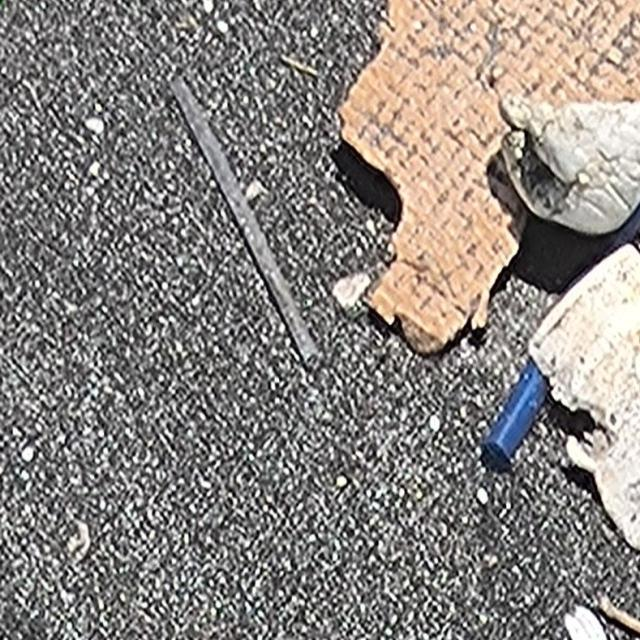plastic_waste: (167, 70, 319, 368)
